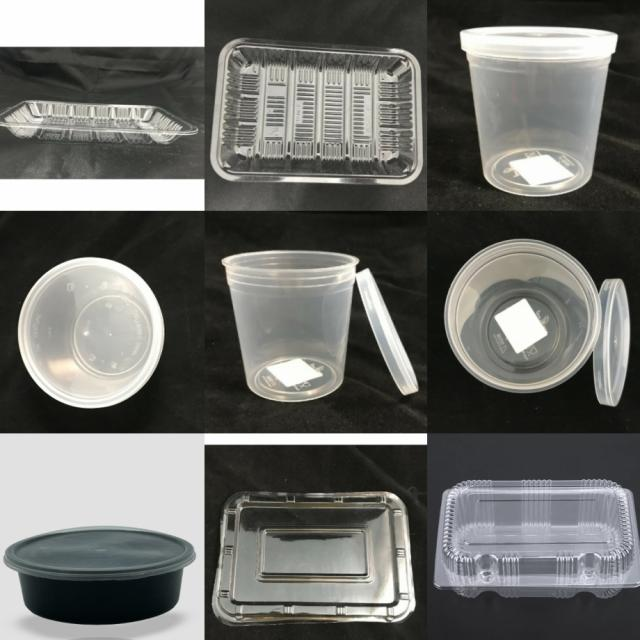plastik: (210, 39, 423, 184), (213, 492, 415, 625), (461, 26, 617, 195), (435, 480, 640, 597), (445, 240, 600, 392), (18, 257, 165, 408), (222, 250, 359, 402), (4, 527, 196, 624), (0, 100, 198, 144), (356, 269, 419, 395), (594, 279, 630, 406)
